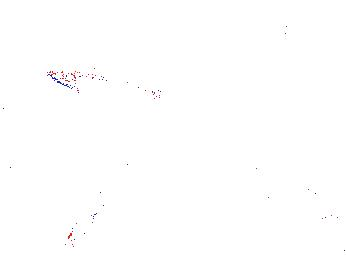X-ray fish: (67, 188, 93, 216)
glassfish: (42, 63, 178, 116), (63, 161, 129, 253)
red belly glassfish: (282, 18, 299, 38)
